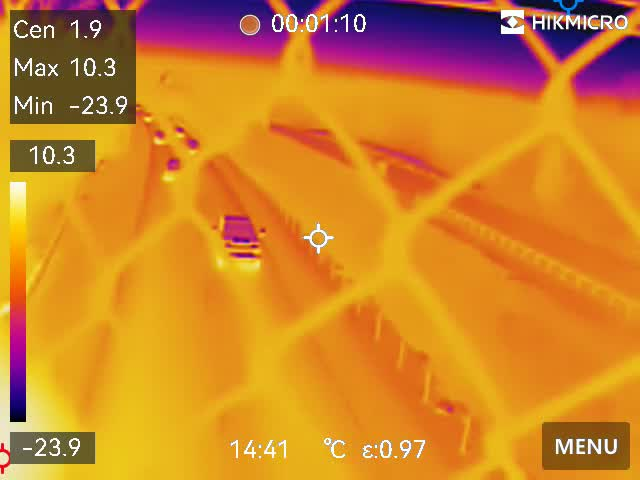vehicle: (211, 210, 265, 274), (162, 155, 185, 171), (152, 128, 169, 144), (185, 138, 200, 151), (173, 124, 188, 137)
